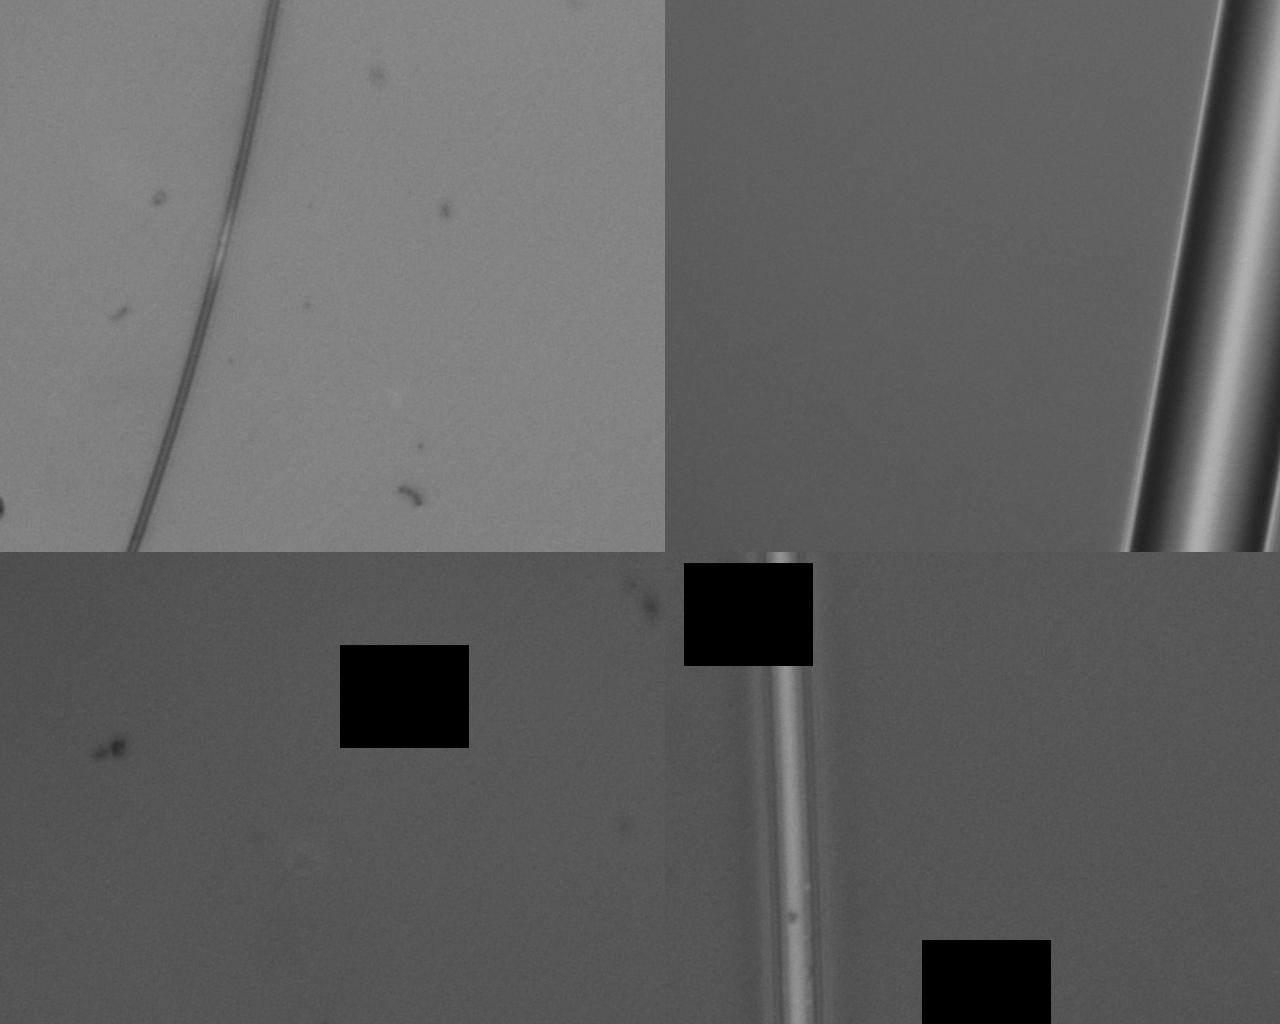fiber: (0, 105, 1280, 1016)
